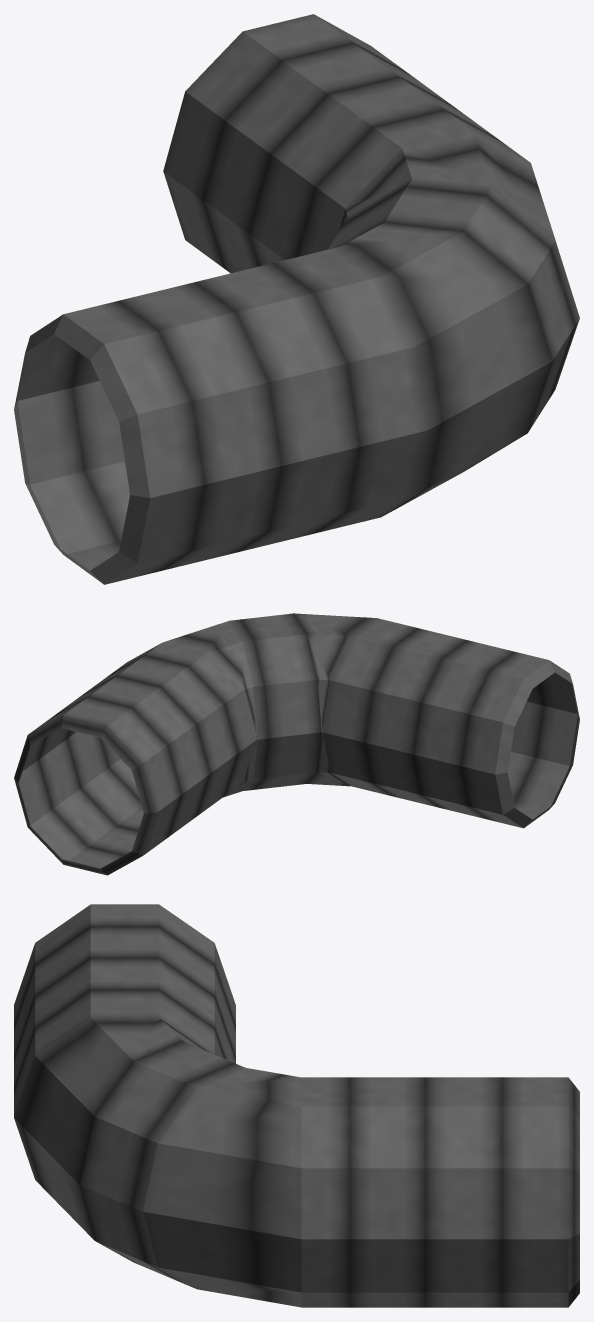
Rendered from pipe_bend.fbx.
3 renders of one model, top to bottom at view 1: azimuth 30°, elevation 25°; view 2: azimuth 150°, elevation 25°; view 3: azimuth 270°, elevation 25°, orthographic. The views are drawn at different scales.
Visible parts, largest first — view 1: pipes_bend; view 2: pipes_bend; view 3: pipes_bend.
Boxes of the visible parts, x1=… form: pipes_bend: x1=14, y1=14, x2=579, y2=584; pipes_bend: x1=14, y1=613, x2=579, y2=875; pipes_bend: x1=14, y1=904, x2=579, y2=1307.
Bounding box in the file's own units: 255 × 100 × 255.
